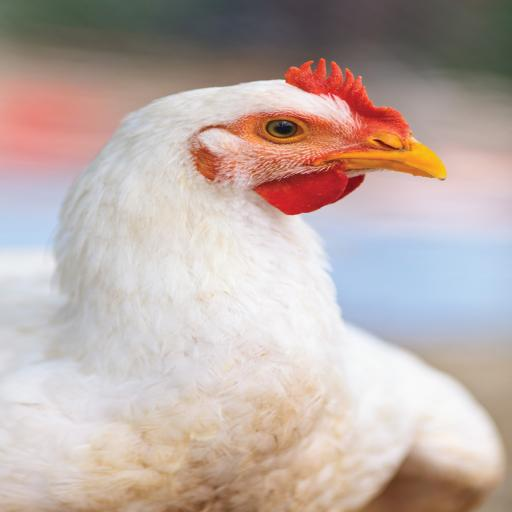healthy: (198, 56, 454, 226)
